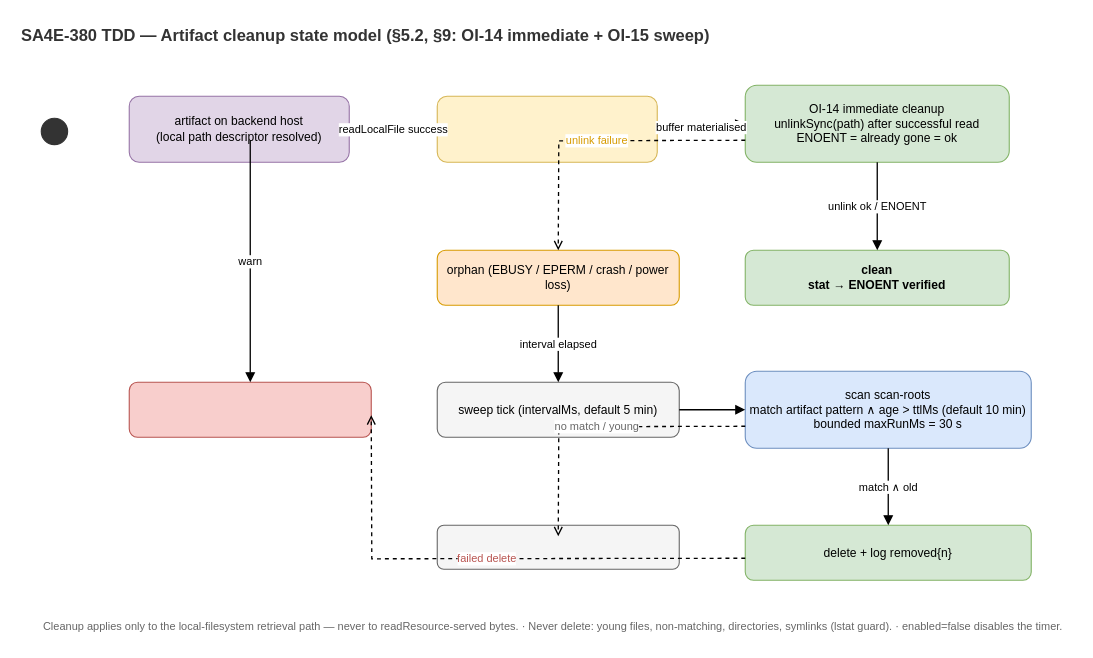
The diagram is 1093 pixels wide and 658 high, and some of its shapes have lost their labels. Each missing label, with the box of its shape:
bytes inlined into response (output_base64 / outputs[]): (436, 95, 657, 162)
keep — young or non-matching file: (436, 524, 679, 569)
log warn (basenames only, I-3) → retry next tick: (128, 381, 371, 437)
